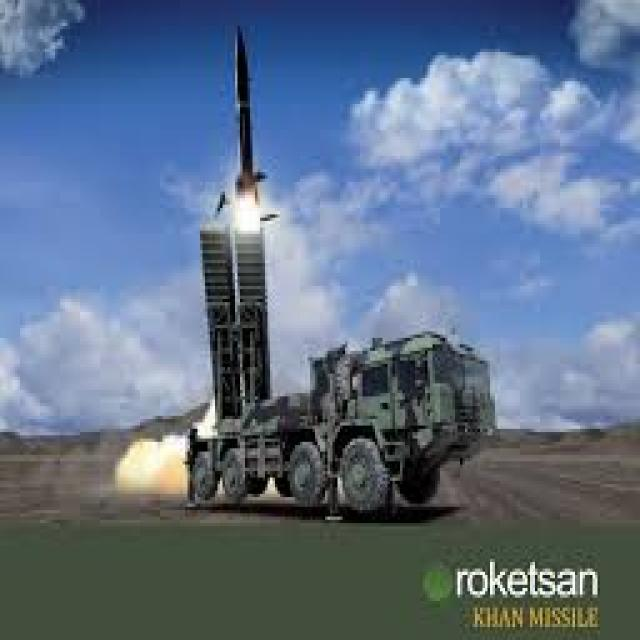missile: (224, 22, 266, 209)
